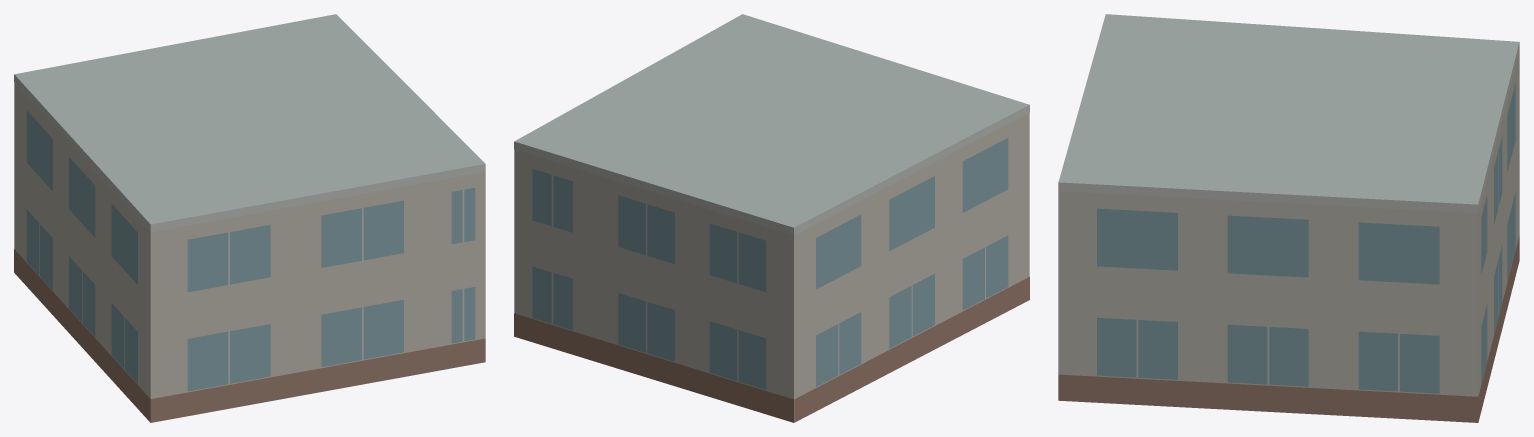
Rendered from survey-upis-32685456.glb.
The picture shows the model from 3 angles, left to right: view 1: azimuth 30°, elevation 25°; view 2: azimuth 150°, elevation 25°; view 3: azimuth 270°, elevation 25°; orthographic projection. The views are drawn at different scales.
Parts seen in each view (by area): view 1: survey-upis-32685456.tmp; view 2: survey-upis-32685456.tmp; view 3: survey-upis-32685456.tmp.
Part boxes in pixels (left/top/right/bottom): survey-upis-32685456.tmp: left=14, top=14, right=485, bottom=422; survey-upis-32685456.tmp: left=514, top=14, right=1029, bottom=422; survey-upis-32685456.tmp: left=1058, top=14, right=1519, bottom=422.
Size of the model in its own units: 11.43 by 6.1 by 11.69.
